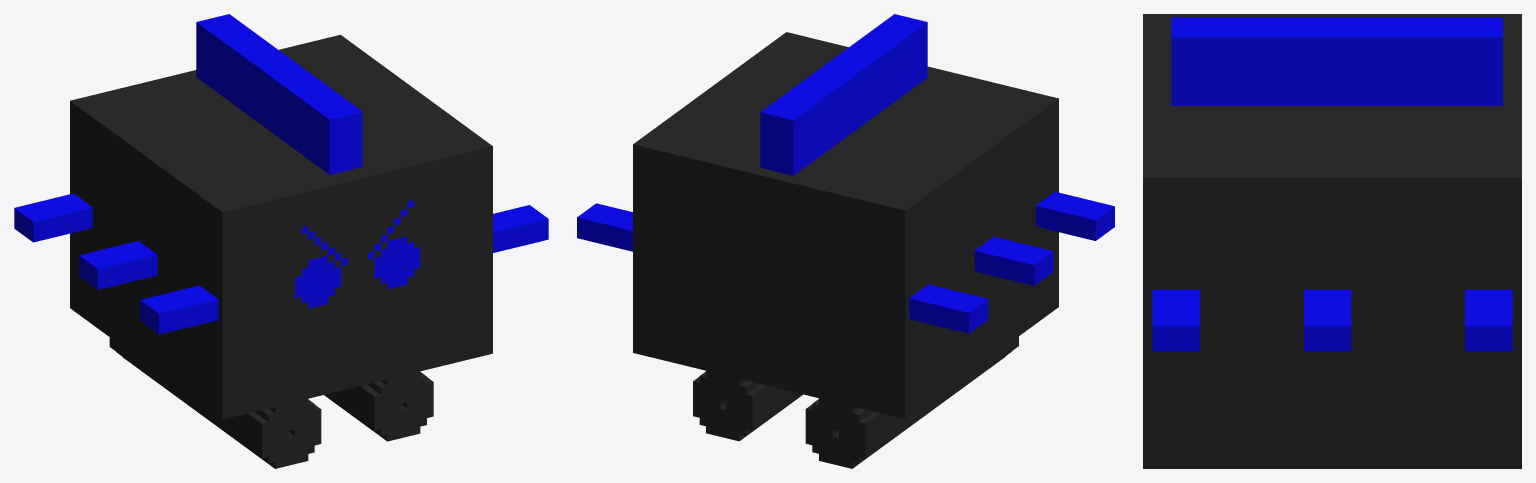
File: Enemy2.obj
The picture shows the model from 3 angles, left to right: view 1: azimuth 30°, elevation 25°; view 2: azimuth 150°, elevation 25°; view 3: azimuth 270°, elevation 25°; orthographic projection. The views are drawn at different scales.
Size of the model in its own units: 5.9 by 4.7 by 4.
1 material, 1 textured.
